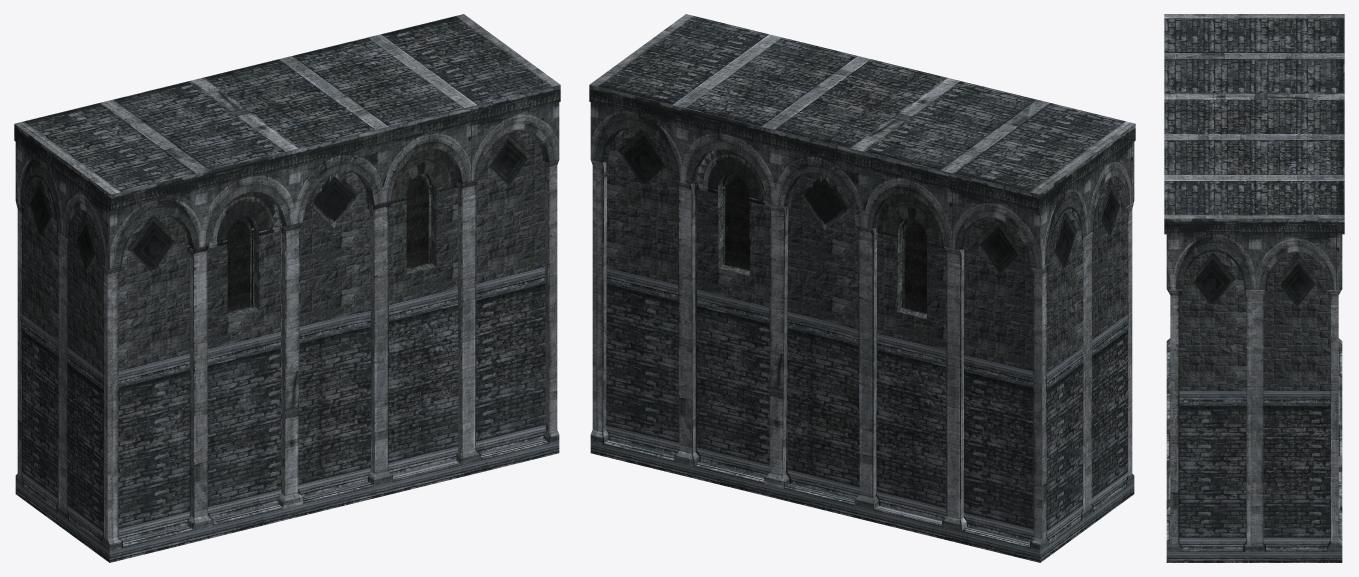
Rendered from eBuilding.fbx.
The picture shows the model from 3 angles, left to right: view 1: azimuth 30°, elevation 25°; view 2: azimuth 150°, elevation 25°; view 3: azimuth 270°, elevation 25°; orthographic projection. The views are drawn at different scales.
Parts seen in each view (by area): view 1: SMO_BG50_ebuilding_UTZ_0010; view 2: SMO_BG50_ebuilding_UTZ_0010; view 3: SMO_BG50_ebuilding_UTZ_0010.
Boxes of the visible parts, x1,y1,x2,y2 form: SMO_BG50_ebuilding_UTZ_0010: [14, 14, 560, 562]; SMO_BG50_ebuilding_UTZ_0010: [589, 14, 1135, 562]; SMO_BG50_ebuilding_UTZ_0010: [1164, 14, 1344, 562].
Size of the model in its own units: 2110 by 1656 by 786.
